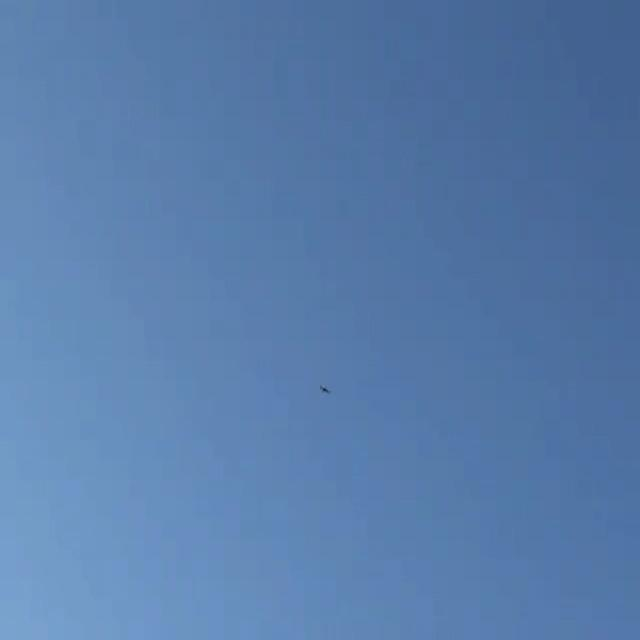bird: (313, 380, 341, 402)
